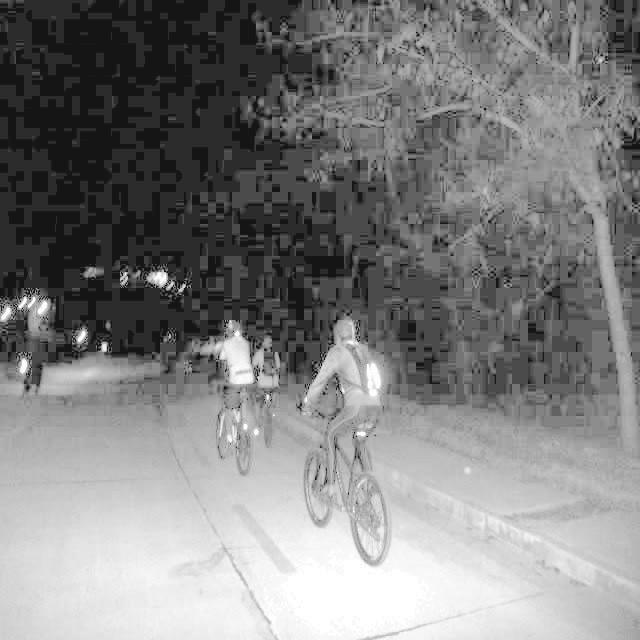Bicycle: (299, 428, 411, 574), (213, 395, 281, 475)
